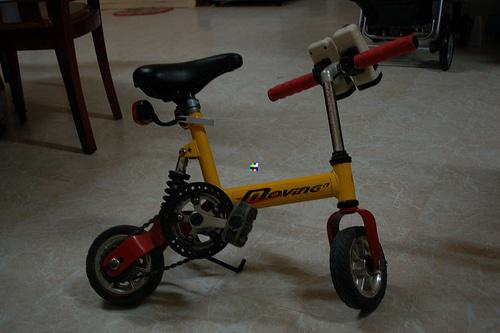car: (86, 23, 422, 312)
chair: (1, 2, 125, 156)
